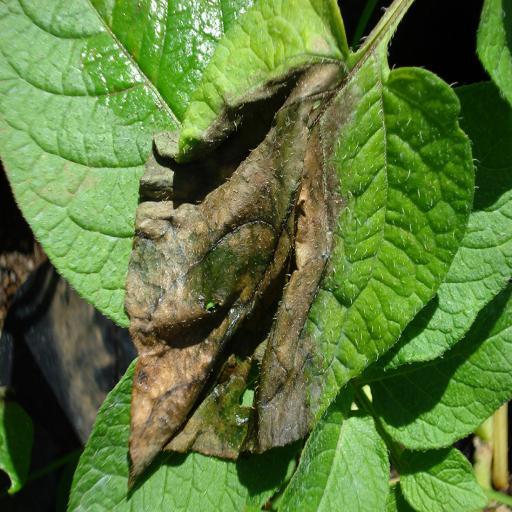disease_tomato: (122, 0, 478, 490)
